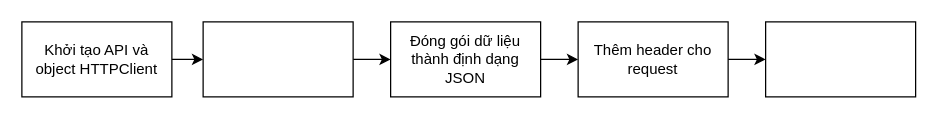
This 938x119 diagram has some shape labels left out. Here are the shapes that lost their labels. From the top down, the centre of each, then its label:
(277,59): Tạo HTTP socket
(840,59): Gửi dữ liệu thông qua HTTP POST
